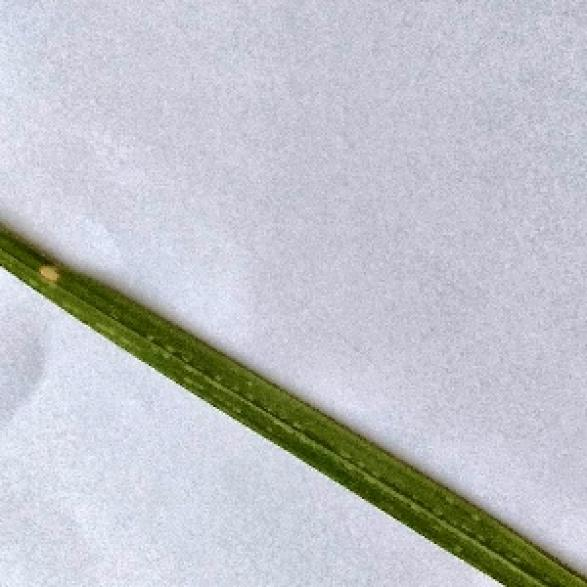Leaf_smut: (27, 252, 68, 288)
